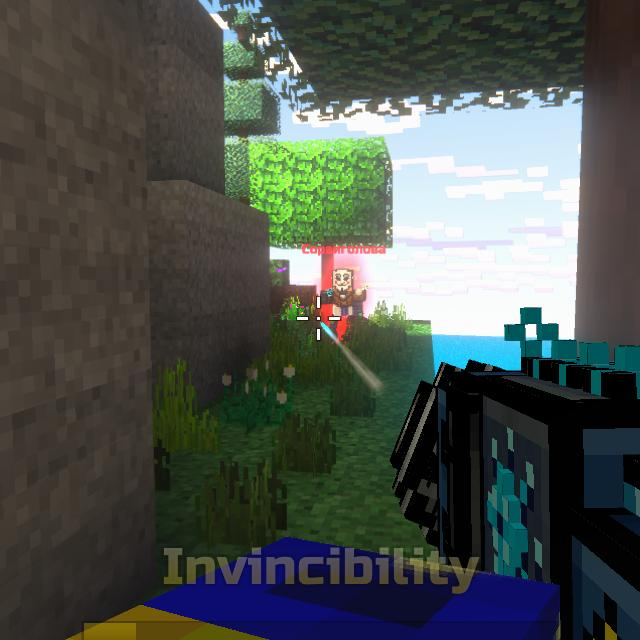Enemy: (321, 267, 369, 334)
